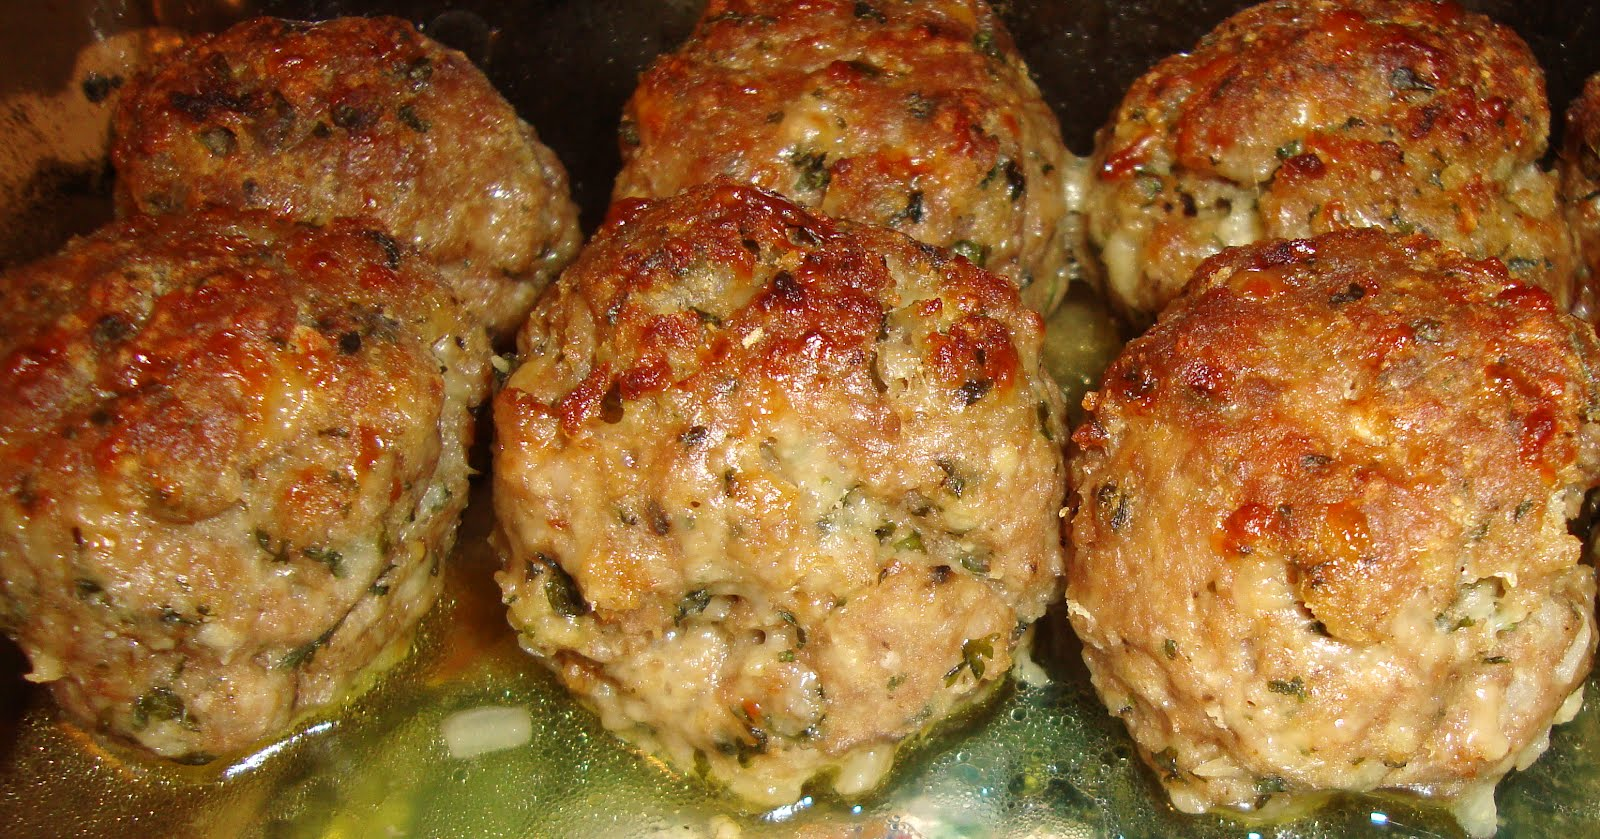meatballs: (104, 87, 1508, 719)
